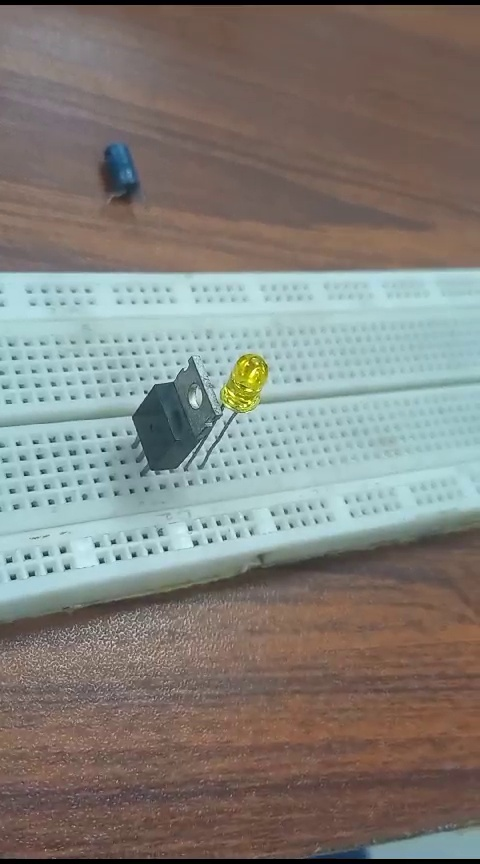LED: (227, 336, 260, 443)
voltage regulator: (116, 361, 212, 468)
